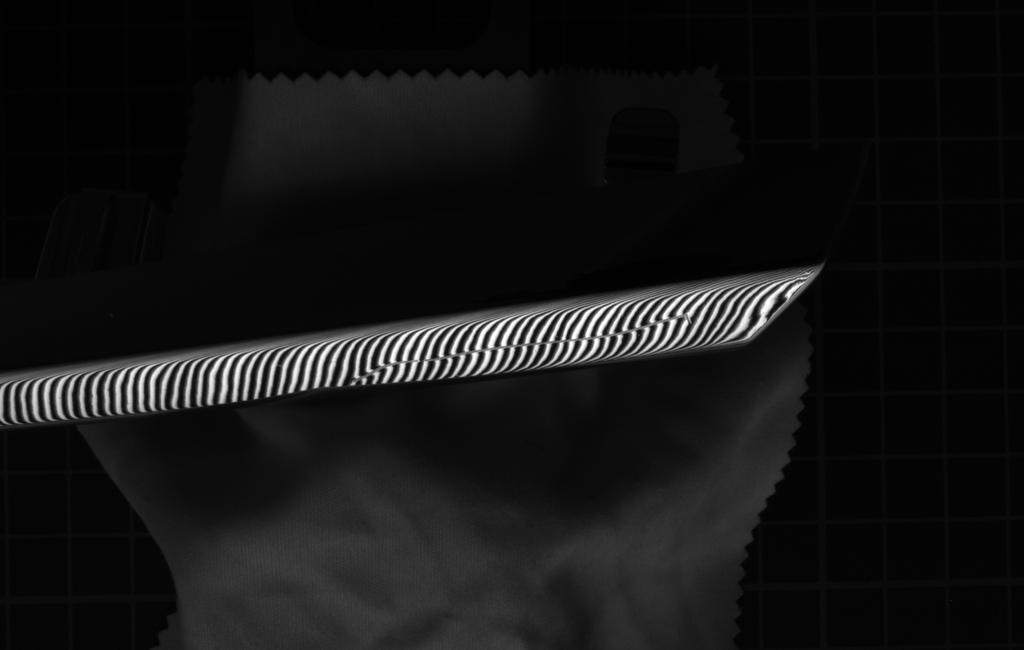Scratch: (340, 301, 703, 390)
